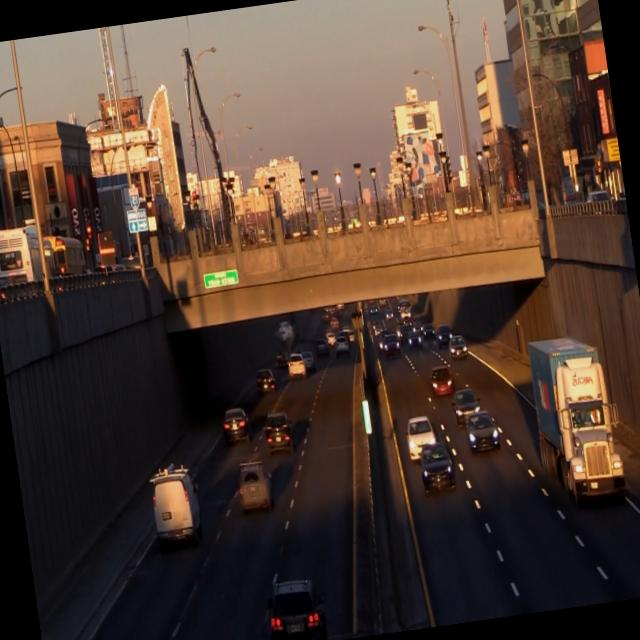Vehicle: (526, 331, 630, 513), (146, 464, 206, 550), (263, 576, 327, 640), (232, 458, 278, 518), (462, 409, 502, 458), (418, 443, 456, 494), (260, 408, 296, 459), (404, 413, 438, 462), (449, 383, 482, 424), (221, 406, 253, 448), (426, 366, 456, 399), (286, 349, 308, 382), (255, 368, 278, 396), (448, 334, 470, 362), (382, 331, 402, 361), (436, 324, 454, 350), (334, 336, 351, 358), (407, 330, 423, 352)
